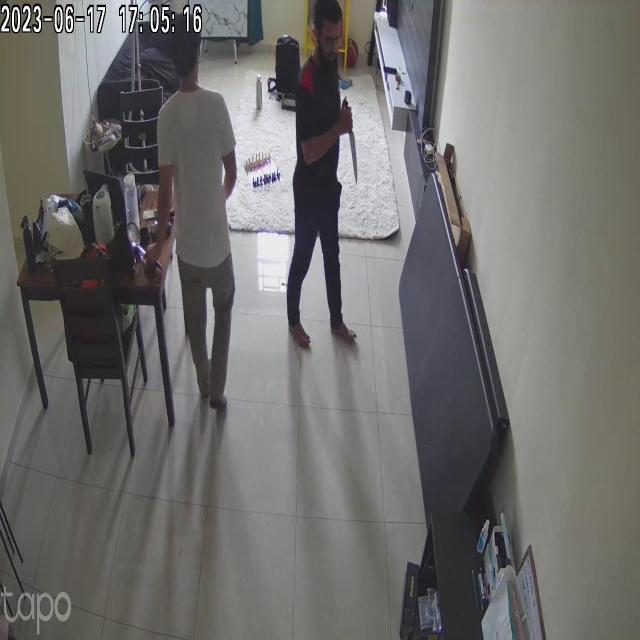Knife: (335, 112, 373, 184)
